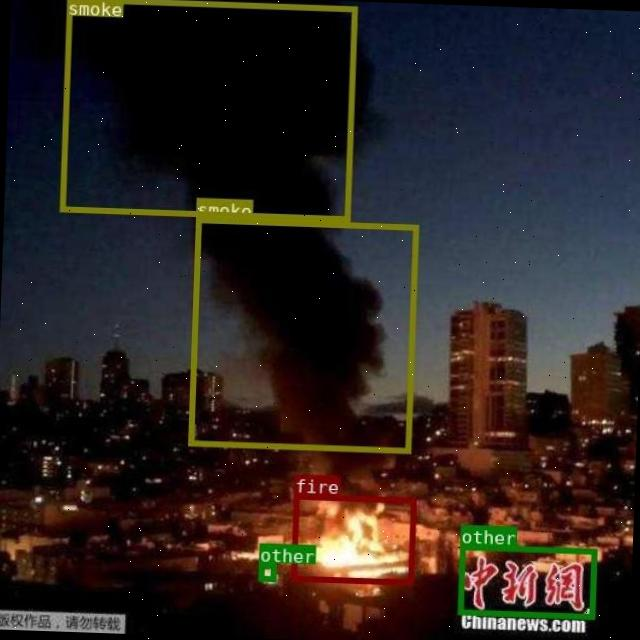fire: (290, 494, 415, 584)
smoke: (59, 0, 355, 220), (188, 217, 418, 452)
